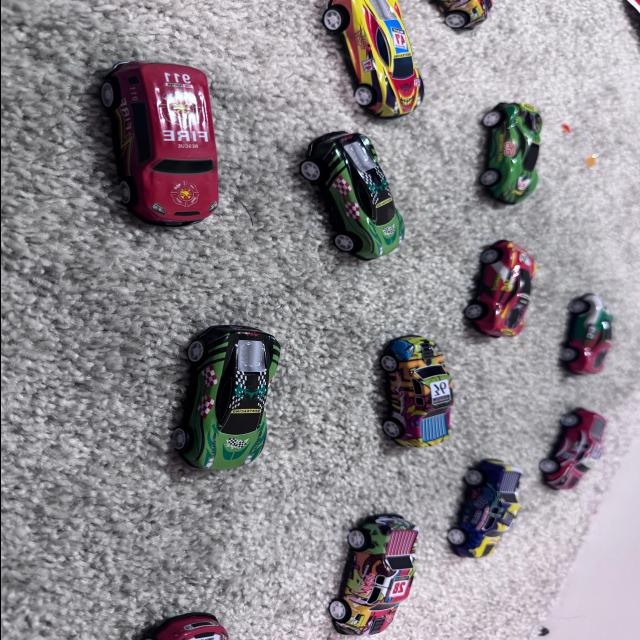Car: (150, 314, 302, 518), (90, 61, 261, 230), (397, 450, 543, 640), (292, 114, 419, 268), (321, 507, 444, 640), (321, 0, 430, 148), (373, 326, 485, 464), (547, 278, 640, 396), (461, 98, 545, 224), (536, 402, 628, 504), (472, 240, 546, 352)
